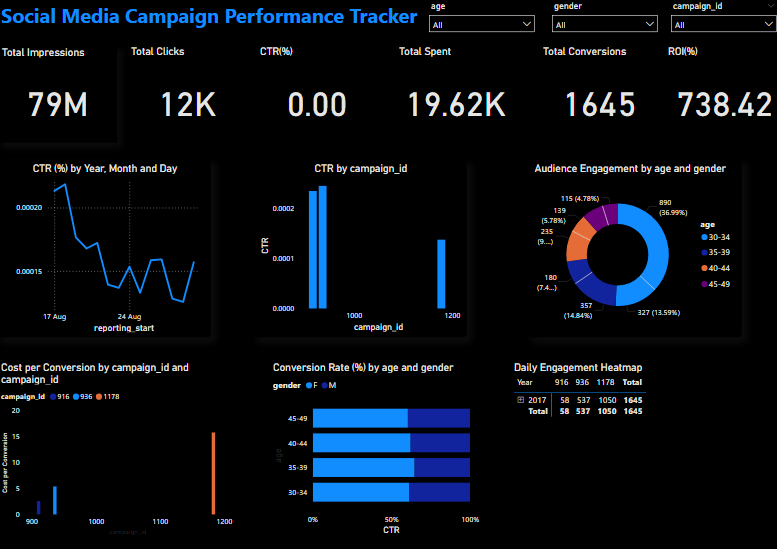

What the dashboard file says about the page in this screenshot:
{"tool":"powerbi","page":{"name":"Page 1","canvas":[1280,900],"ordinal":0},"visuals":[{"type":"card","title":"Total Impressions","fields":{"Values":["social-media-data.Total Impressions"]},"box":[13.2,76.2,192.1,157.3],"z":0},{"type":"card","title":"Total Clicks","fields":{"Values":["social-media-data.Total Clicks"]},"box":[221.9,76.2,190.4,157.3],"z":1000},{"type":"card","title":"CTR(%)","fields":{"Values":["social-media-data.CTR"]},"box":[430.5,76.2,193.7,157.3],"z":2000},{"type":"card","title":"Total Spent","fields":{"Values":["social-media-data.Total Spent"]},"box":[654.1,76.2,192.1,157.3],"z":3000},{"type":"card","title":"Total Conversions","fields":{"Values":["social-media-data.Total Conversions"]},"box":[887.6,76.2,192.1,157.3],"z":4000},{"type":"lineChart","title":"CTR (%) by Year, Month and Day","fields":{"Category":["social-media-data.reporting_start"],"Y":["social-media-data.CTR"]},"box":[13.2,261.6,342.8,286.5],"z":5000},{"type":"clusteredColumnChart","fields":{"Category":["social-media-data.campaign_id"],"Y":["social-media-data.CTR"]},"box":[425.6,261.6,342.8,286.5],"z":6000},{"type":"donutChart","title":"Audience Engagement by age and gender","fields":{"Y":["social-media-data.Total Conversions","CountNonNull(social-media-data.gender)"],"Category":["social-media-data.age"]},"box":[869.3,261.6,342.8,286.5],"z":7000},{"type":"hundredPercentStackedBarChart","title":"Conversion Rate (%) by age and gender","fields":{"Category":["social-media-data.age"],"Series":["social-media-data.gender"],"Y":["social-media-data.CTR"]},"box":[452.1,586.2,342.8,286.5],"z":8000},{"type":"clusteredColumnChart","fields":{"Category":["social-media-data.campaign_id"],"Y":["social-media-data.Cost per Conversion"],"Series":["social-media-data.campaign_id"]},"box":[13.2,586.2,384.2,286.5],"z":9000},{"type":"pivotTable","title":"Daily Engagement Heatmap","fields":{"Rows":["social-media-data.reporting_start.Variation.Date Hierarchy.Year","social-media-data.reporting_start.Variation.Date Hierarchy.Quarter","social-media-data.reporting_start.Variation.Date Hierarchy.Month","social-media-data.reporting_start.Variation.Date Hierarchy.Day"],"Columns":["social-media-data.campaign_id"],"Values":["social-media-data.Total Conversions"]},"box":[839.5,586.2,342.8,286.5],"z":10000},{"type":"card","title":"ROI(%)","fields":{"Values":["social-media-data.ROI(%)"]},"box":[1087.9,76.2,192.1,157.3],"z":11000},{"type":"slicer","fields":{"Values":["social-media-data.age"]},"box":[698.8,0,190.4,62.9],"z":12000},{"type":"slicer","fields":{"Values":["social-media-data.gender"]},"box":[897.5,0,190.4,62.9],"z":13000},{"type":"slicer","fields":{"Values":["social-media-data.campaign_id"]},"box":[1087.9,0,190.4,62.9],"z":14000},{"type":"textbox","box":[13.2,0,685.5,62.9],"z":15000}]}

Visuals, with their boxes in screenshot pixels (x1, y1, x2, y2), scaled from the page's 1280x900 canvas onto the 777x549 screenshot:
"Total Impressions" card: 8:46:125:142
"Total Clicks" card: 135:46:250:142
"CTR(%)" card: 261:46:379:142
"Total Spent" card: 397:46:514:142
"Total Conversions" card: 539:46:655:142
"CTR (%) by Year, Month and Day" lineChart: 8:160:216:334
clusteredColumnChart - social-media-data.campaign_id x social-media-data.CTR: 258:160:466:334
"Audience Engagement by age and gender" donutChart: 528:160:736:334
"Conversion Rate (%) by age and gender" hundredPercentStackedBarChart: 274:358:483:532
clusteredColumnChart - social-media-data.campaign_id x social-media-data.Cost per Conversion: 8:358:241:532
"Daily Engagement Heatmap" pivotTable: 510:358:718:532
"ROI(%)" card: 660:46:776:142
slicer - social-media-data.age: 424:0:540:38
slicer - social-media-data.gender: 545:0:660:38
slicer - social-media-data.campaign_id: 660:0:776:38
textbox: 8:0:424:38
